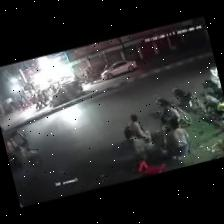person: (155, 99, 180, 145), (167, 119, 189, 156), (210, 65, 221, 88)
